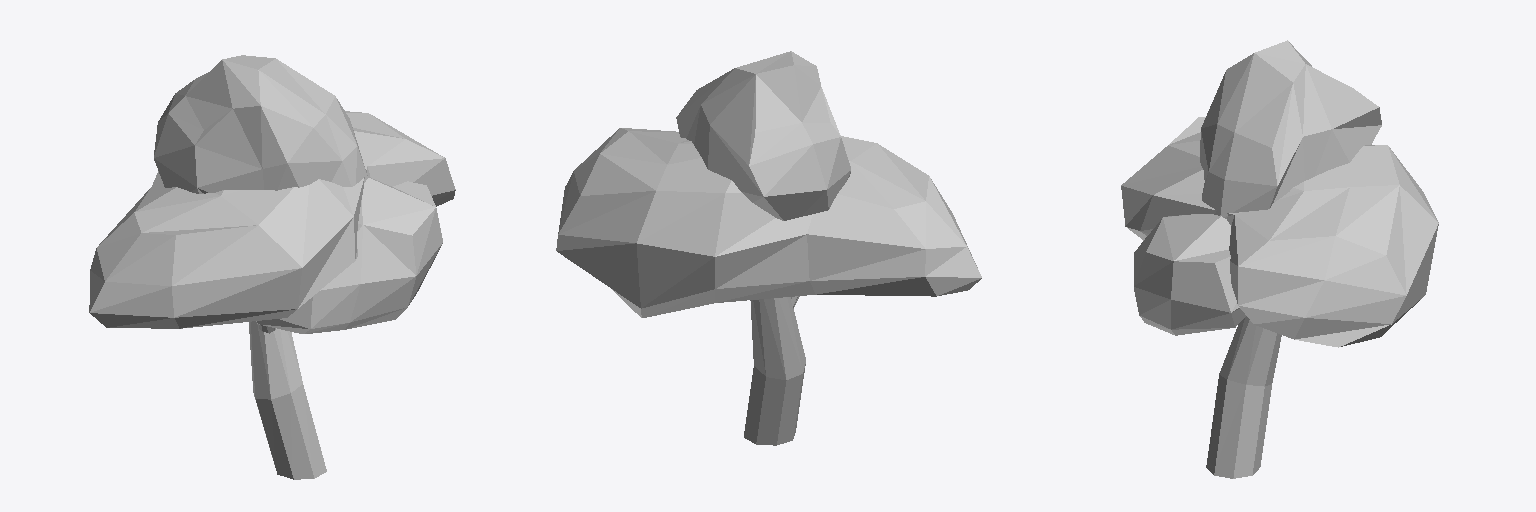
Rendered from Tree2.obj.
3 renders of one model, left to right at view 1: azimuth 30°, elevation 25°; view 2: azimuth 150°, elevation 25°; view 3: azimuth 270°, elevation 25°, orthographic.
Visible parts, largest first — view 1: Tree; view 2: Tree; view 3: Tree.
Boxes of the visible parts, x1=… form: Tree: x1=89, y1=55, x2=455, y2=479; Tree: x1=556, y1=51, x2=981, y2=445; Tree: x1=1121, y1=40, x2=1438, y2=478.
Bounding box in the file's own units: 3.28 × 3.31 × 2.37.